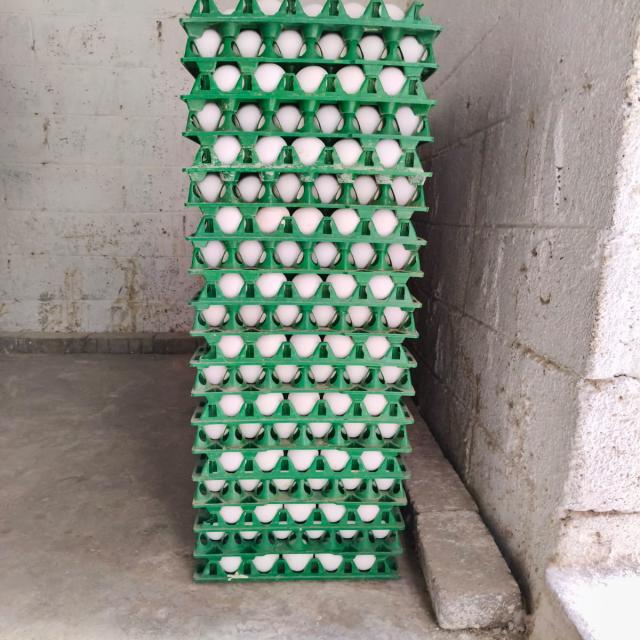egg_tray: (194, 392, 407, 497), (190, 271, 420, 365), (193, 392, 409, 491), (194, 392, 407, 491), (187, 194, 424, 282), (182, 0, 440, 80), (181, 63, 435, 141), (182, 72, 434, 150), (194, 449, 405, 540), (191, 394, 412, 478), (194, 449, 404, 537), (185, 136, 430, 208), (187, 206, 424, 280), (182, 25, 437, 93), (182, 25, 437, 92), (182, 30, 436, 95), (194, 503, 404, 579), (193, 448, 407, 521), (187, 205, 425, 270), (192, 422, 410, 492), (194, 505, 404, 577), (193, 421, 410, 490), (190, 284, 421, 345), (192, 403, 412, 467), (182, 22, 435, 76), (191, 334, 414, 395), (181, 63, 435, 114), (183, 97, 432, 149), (192, 392, 407, 452), (191, 333, 416, 390), (190, 270, 419, 326), (182, 60, 428, 112), (191, 400, 413, 454), (192, 402, 410, 456), (191, 332, 415, 383), (185, 135, 428, 182), (187, 167, 428, 214), (192, 381, 413, 432), (193, 470, 405, 523), (193, 479, 406, 530), (189, 236, 422, 281), (194, 530, 402, 579), (180, 0, 441, 39), (192, 392, 412, 438), (193, 448, 408, 495), (196, 479, 392, 528), (189, 240, 422, 281), (193, 448, 408, 492), (194, 536, 401, 581), (193, 478, 406, 521), (192, 356, 414, 397), (192, 382, 413, 422), (194, 502, 404, 540), (206, 268, 412, 306), (194, 503, 404, 540), (194, 546, 401, 581), (194, 530, 402, 559), (194, 553, 398, 582), (362, 394, 398, 420), (346, 176, 389, 196), (393, 36, 428, 58), (317, 176, 340, 191), (402, 184, 422, 199), (242, 176, 261, 191), (381, 72, 401, 84), (243, 370, 262, 382), (316, 250, 330, 266), (216, 74, 232, 88), (351, 314, 367, 328), (224, 340, 242, 352), (278, 308, 290, 325), (393, 483, 403, 503), (292, 484, 306, 498), (207, 371, 226, 381), (245, 306, 260, 318), (301, 503, 313, 514), (196, 564, 208, 574), (371, 466, 381, 477), (367, 459, 379, 468), (224, 459, 238, 466), (242, 482, 254, 490), (312, 480, 322, 489), (363, 451, 381, 456), (379, 481, 390, 489), (345, 522, 356, 530), (291, 178, 299, 188), (208, 484, 221, 490), (213, 529, 221, 538), (258, 564, 270, 570), (261, 460, 273, 466), (283, 32, 294, 38), (397, 211, 410, 216), (303, 67, 316, 72), (354, 411, 362, 419), (365, 397, 373, 405), (291, 314, 298, 322), (285, 287, 291, 296), (325, 492, 334, 498), (332, 460, 341, 466), (205, 543, 215, 548), (239, 184, 248, 189), (379, 543, 388, 548), (396, 514, 401, 523), (244, 190, 251, 196), (398, 316, 404, 323), (337, 469, 343, 476), (281, 174, 291, 178), (394, 461, 398, 471), (373, 336, 385, 339), (325, 335, 342, 337), (297, 461, 305, 465), (393, 424, 399, 429), (385, 424, 391, 429), (265, 511, 270, 517), (267, 505, 272, 511), (350, 431, 356, 436), (263, 459, 269, 464), (347, 68, 357, 71), (301, 506, 308, 510), (227, 38, 233, 42), (282, 478, 288, 482), (222, 507, 234, 509), (220, 316, 224, 322), (386, 210, 392, 214), (369, 428, 372, 435), (345, 461, 348, 468), (212, 275, 216, 280), (392, 403, 396, 408), (281, 183, 286, 187), (291, 336, 295, 341), (267, 398, 271, 403), (369, 461, 374, 465), (316, 526, 321, 530), (403, 473, 407, 478), (343, 361, 349, 364), (299, 361, 305, 364), (310, 534, 316, 537), (396, 178, 405, 180), (238, 325, 244, 328), (397, 347, 403, 350), (246, 486, 252, 489), (336, 384, 340, 388), (225, 394, 229, 398), (402, 473, 406, 477), (309, 545, 314, 548), (362, 292, 365, 297), (378, 265, 383, 268), (274, 359, 279, 362), (386, 318, 389, 323), (214, 478, 219, 481), (253, 458, 256, 463), (254, 532, 261, 534), (299, 502, 306, 504), (378, 210, 385, 212), (287, 503, 293, 505), (274, 184, 277, 188), (307, 491, 310, 495), (348, 545, 352, 548), (394, 336, 398, 339), (350, 86, 353, 90), (342, 472, 346, 475), (350, 456, 354, 459), (300, 335, 311, 336), (309, 386, 314, 388), (285, 532, 290, 534), (203, 208, 205, 213), (397, 312, 399, 317), (246, 486, 251, 488), (385, 107, 388, 110), (261, 516, 264, 519), (363, 311, 366, 314), (256, 69, 259, 72), (372, 451, 375, 454), (342, 274, 350, 275), (393, 184, 397, 186), (240, 422, 248, 423), (299, 556, 301, 560), (287, 468, 291, 470), (217, 82, 221, 84), (195, 475, 199, 477), (247, 478, 251, 480), (230, 410, 234, 412), (316, 386, 319, 388), (363, 516, 365, 519), (327, 246, 330, 248), (430, 57, 432, 60), (411, 56, 413, 59), (289, 360, 291, 363), (277, 191, 279, 194), (321, 176, 324, 178), (379, 472, 381, 475), (392, 534, 395, 536), (390, 534, 392, 537), (234, 318, 236, 321), (283, 486, 286, 488), (354, 334, 357, 336), (223, 32, 226, 34), (230, 30, 233, 32), (210, 461, 213, 463), (383, 478, 386, 480), (305, 67, 310, 68), (285, 193, 287, 195), (369, 426, 371, 428), (382, 478, 386, 479), (305, 515, 306, 519), (266, 334, 268, 336), (217, 82, 221, 83), (397, 472, 399, 474), (283, 486, 285, 488), (199, 448, 201, 450), (309, 494, 312, 495), (395, 38, 398, 39), (303, 45, 305, 46), (404, 418, 406, 419), (372, 273, 374, 274), (344, 472, 346, 473), (293, 398, 294, 400), (347, 336, 349, 337), (188, 129, 189, 131), (386, 487, 388, 488), (218, 487, 220, 488), (318, 67, 319, 69), (196, 570, 197, 572), (194, 449, 196, 450), (396, 418, 397, 419), (358, 294, 359, 295), (347, 418, 348, 419), (276, 534, 277, 535), (216, 187, 217, 188), (213, 478, 214, 479), (316, 433, 317, 434), (265, 563, 266, 564), (252, 525, 253, 526), (387, 482, 388, 483), (238, 467, 239, 468), (307, 416, 308, 417), (236, 552, 237, 552), (354, 386, 355, 386), (236, 252, 237, 252), (234, 74, 234, 75), (298, 34, 298, 36), (394, 412, 396, 412), (210, 402, 210, 403), (248, 480, 248, 480), (203, 377, 203, 378), (407, 374, 407, 377), (292, 534, 292, 534), (294, 402, 294, 403), (294, 352, 294, 352), (289, 576, 293, 576), (208, 321, 210, 321), (243, 319, 243, 319), (334, 312, 334, 312), (324, 476, 329, 476), (307, 468, 308, 468), (281, 436, 284, 436), (403, 430, 403, 430), (316, 142, 316, 144), (381, 72, 383, 72), (392, 70, 396, 70), (303, 76, 303, 78), (361, 82, 361, 84), (363, 472, 364, 472), (332, 452, 335, 452), (310, 234, 310, 234), (321, 214, 321, 215), (281, 462, 281, 463), (207, 452, 208, 452)
